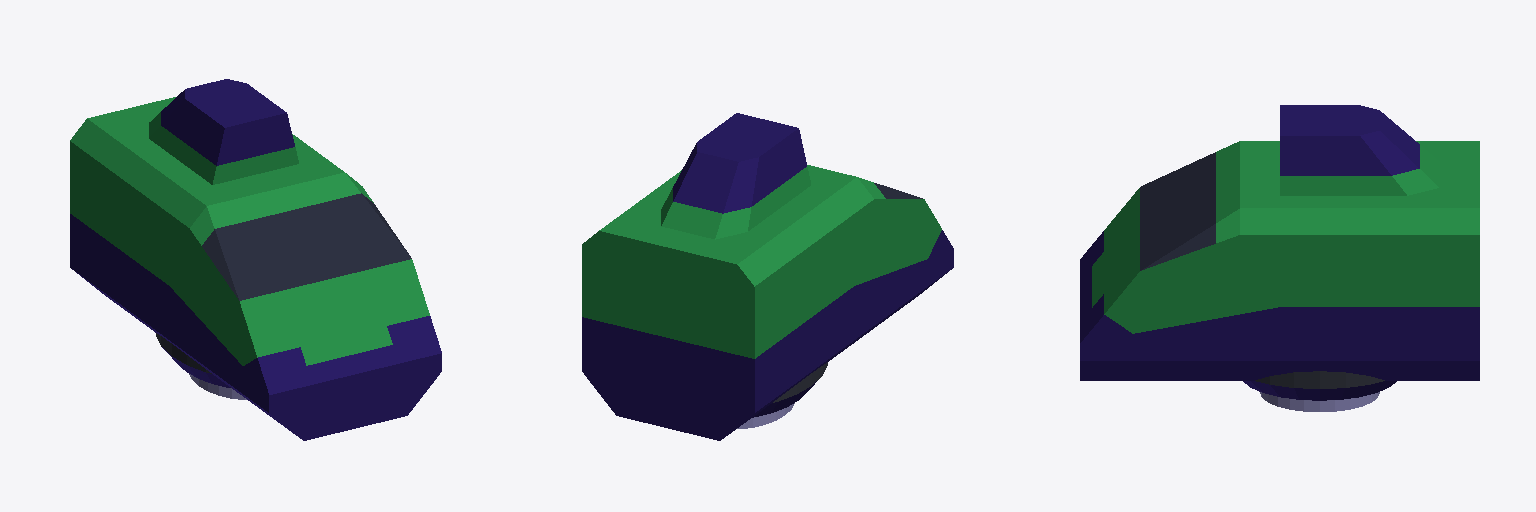
Rendered from car4.obj.
The picture shows the model from 3 angles: view 1: azimuth 30°, elevation 25°; view 2: azimuth 150°, elevation 25°; view 3: azimuth 270°, elevation 25°; orthographic projection.
Visible parts, largest first — view 1: mergedBlocks; view 2: mergedBlocks; view 3: mergedBlocks.
Part boxes in pixels (bbox=[...]): mergedBlocks: bbox=[70, 79, 441, 440]; mergedBlocks: bbox=[582, 113, 953, 440]; mergedBlocks: bbox=[1080, 105, 1479, 411].
Bounding box in the file's own units: 1 × 1.5 × 2.